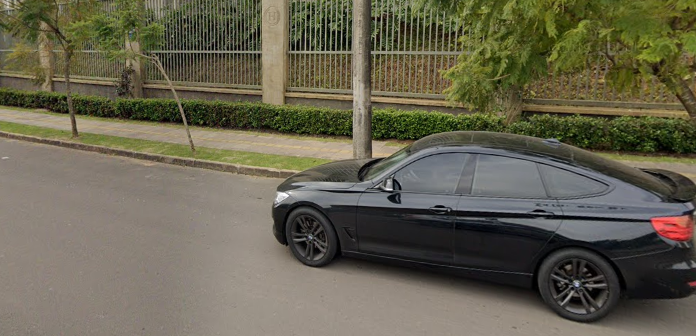vag41: (2, 93, 262, 250)
